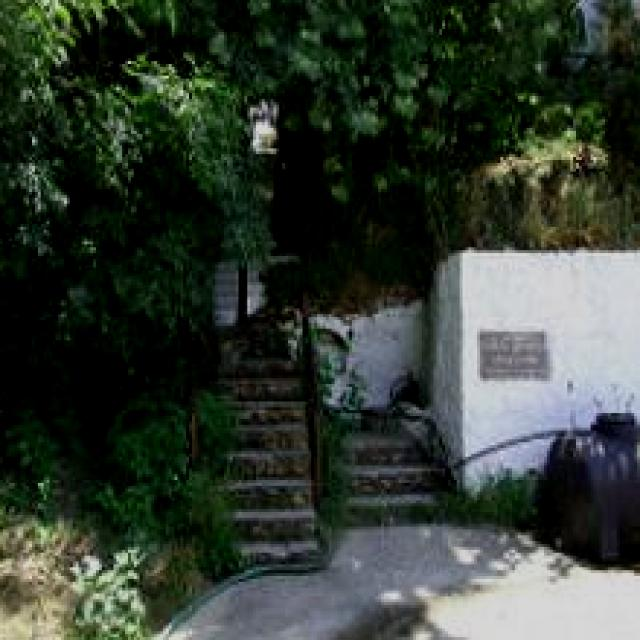upstair: (190, 359, 350, 565)
